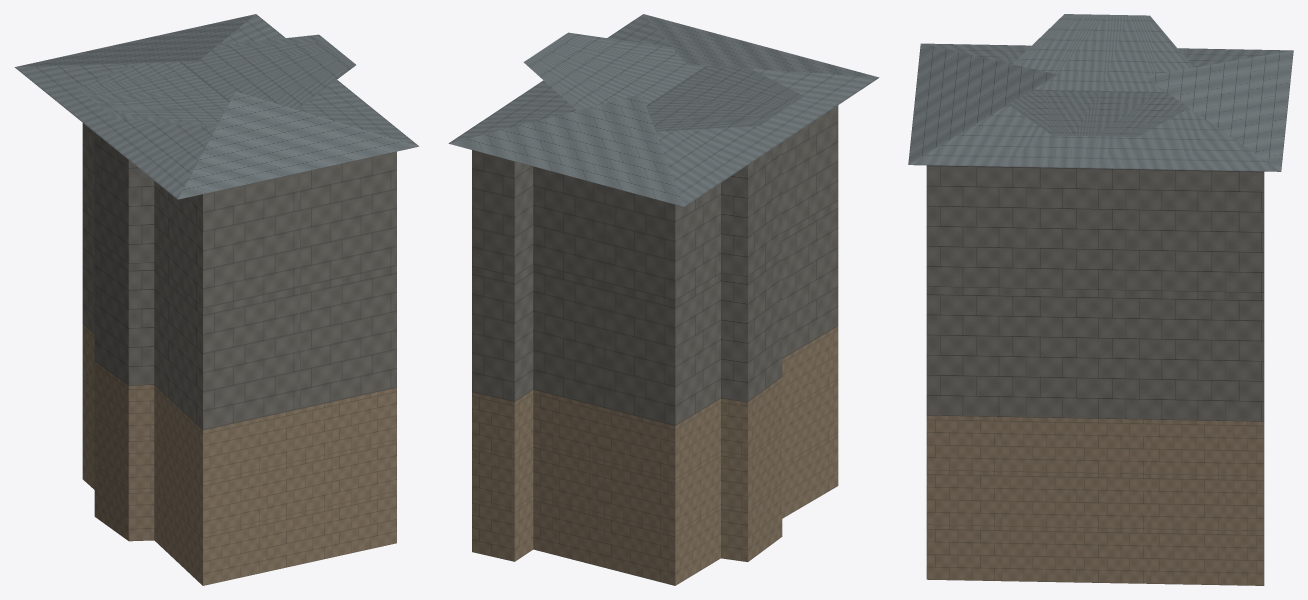
File: bld_c-14_27_483.gltf
The picture shows the model from 3 angles, left to right: view 1: azimuth 30°, elevation 25°; view 2: azimuth 150°, elevation 25°; view 3: azimuth 270°, elevation 25°; orthographic projection. The views are drawn at different scales.
Visible parts, largest first — view 1: bld_c-14_27_483; view 2: bld_c-14_27_483; view 3: bld_c-14_27_483.
Boxes of the visible parts, x1,y1,x2,y2 form: bld_c-14_27_483: (14,14,418,585); bld_c-14_27_483: (448,14,879,585); bld_c-14_27_483: (908,14,1293,585).
Size of the model in its own units: 8.55 by 14.1 by 10.85.
Materials: 3 (3 with a texture image).
